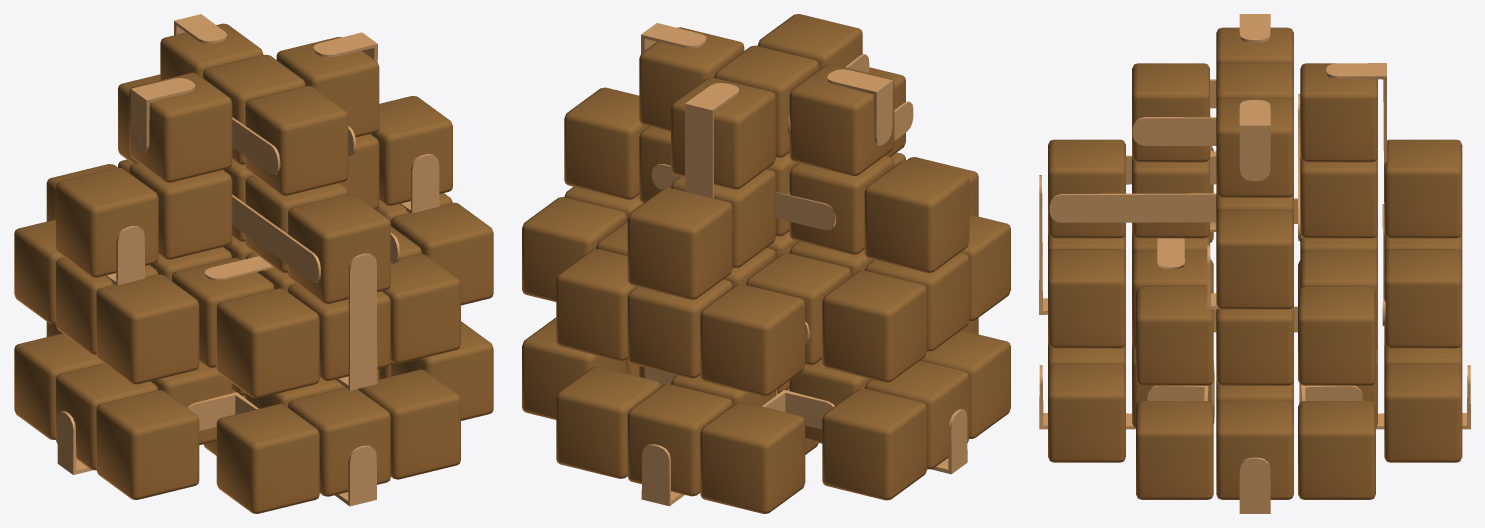
Rendered from level_139.fbx.
3 renders of one model, left to right at view 1: azimuth 30°, elevation 25°; view 2: azimuth 150°, elevation 25°; view 3: azimuth 270°, elevation 25°, orthographic. The views are drawn at different scales.
Parts seen in each view (by area): view 1: Cube_L1_12.051, Cube_L1_12.050, Cube_L1_12.054, Cube_L1_12.056, Cube_L1_12.032, Cube_L1_12.013, Cube_L1_12.014, Cube_L1_12.021, Cube_L1_12.047, Cube_L1_12.046, Cube_L1_12.034, Cube_L1_12.019 (+32 smaller); view 2: Cube_L1_12.058, Cube_L1_12.060, Cube_L1_12.052, Cube_L1_12.013, Cube_L1_12.049, Cube_L1_12.037, Cube_L1_12.014, Cube_L1_12.045, Cube_L1_12.004, Cube_L1_12.048, Cube_L1_12.026, Cube_L1_12.024 (+31 smaller); view 3: Cube_L1_12.045, Cube_L1_12.048, Cube_L1_12.037, Cube_L1_12.046, Cube_L1_12.059, Cube_L1_12.004, Cube_L1_12.047, Cube_L1_12.053, Cube_L1_12.057, Cube_L1_12.055, Cube_L1_12.026, Cube_L1_12.007 (+29 smaller).
Boxes of the visible parts, x1,y1,x2,y2 form: Cube_L1_12.051: (216, 404, 319, 513); Cube_L1_12.050: (216, 288, 319, 398); Cube_L1_12.054: (96, 390, 199, 499); Cube_L1_12.056: (96, 274, 199, 384); Cube_L1_12.032: (245, 86, 348, 195); Cube_L1_12.013: (55, 167, 158, 277); Cube_L1_12.014: (129, 72, 232, 182); Cube_L1_12.021: (288, 194, 390, 303); Cube_L1_12.047: (358, 369, 460, 479); Cube_L1_12.046: (382, 254, 460, 363); Cube_L1_12.034: (288, 387, 390, 496); Cube_L1_12.019: (129, 162, 232, 259); Cube_L1_12.058: (822, 388, 927, 500); Cube_L1_12.060: (822, 270, 927, 382); Cube_L1_12.052: (700, 284, 805, 395); Cube_L1_12.013: (864, 161, 969, 272); Cube_L1_12.049: (700, 402, 805, 513); Cube_L1_12.037: (627, 187, 732, 299); Cube_L1_12.014: (789, 64, 894, 176); Cube_L1_12.045: (556, 366, 661, 478); Cube_L1_12.004: (564, 87, 648, 199); Cube_L1_12.048: (556, 249, 636, 360); Cube_L1_12.026: (671, 77, 775, 189); Cube_L1_12.024: (627, 384, 732, 496); Cube_L1_12.045: (1384, 363, 1462, 462); Cube_L1_12.048: (1384, 249, 1462, 348); Cube_L1_12.037: (1384, 139, 1462, 238); Cube_L1_12.046: (1048, 249, 1125, 348); Cube_L1_12.059: (1298, 286, 1375, 385); Cube_L1_12.004: (1216, 210, 1293, 309); Cube_L1_12.047: (1048, 363, 1125, 462); Cube_L1_12.053: (1136, 401, 1213, 499); Cube_L1_12.057: (1298, 401, 1375, 499); Cube_L1_12.055: (1136, 286, 1213, 385); Cube_L1_12.026: (1300, 63, 1377, 162); Cube_L1_12.007: (1216, 401, 1293, 499).
Bounding box in the file's own units: 11.21 × 11.19 × 11.22.
